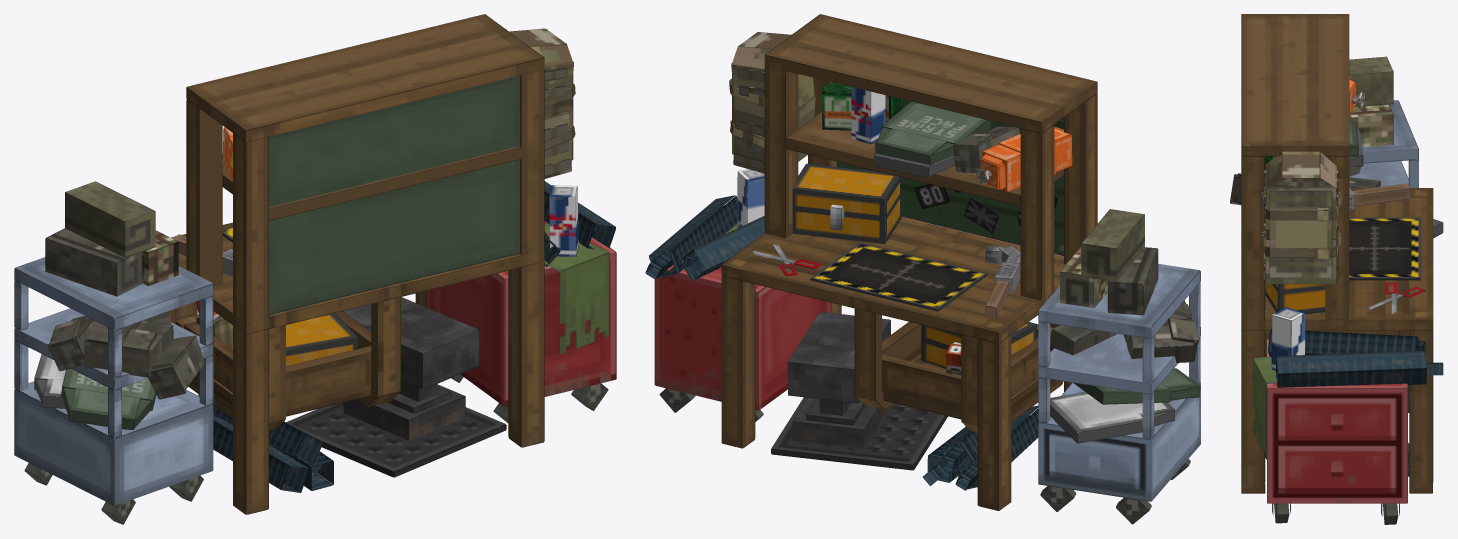
Rendered from workbench.obj.
The picture shows the model from 3 angles, left to right: view 1: azimuth 30°, elevation 25°; view 2: azimuth 150°, elevation 25°; view 3: azimuth 270°, elevation 25°; orthographic projection. The views are drawn at different scales.
Parts seen in each view (by area): view 1: cube; view 2: cube; view 3: cube.
Boxes of the visible parts, x1=… form: cube: x1=14, y1=14, x2=616, y2=524; cube: x1=645, y1=14, x2=1200, y2=524; cube: x1=1230, y1=14, x2=1443, y2=524.
Size of the model in its own units: 2.96 by 2.02 by 1.11.
